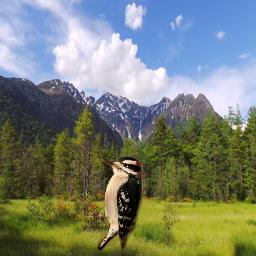Woodpecker: (87, 154, 143, 250)
